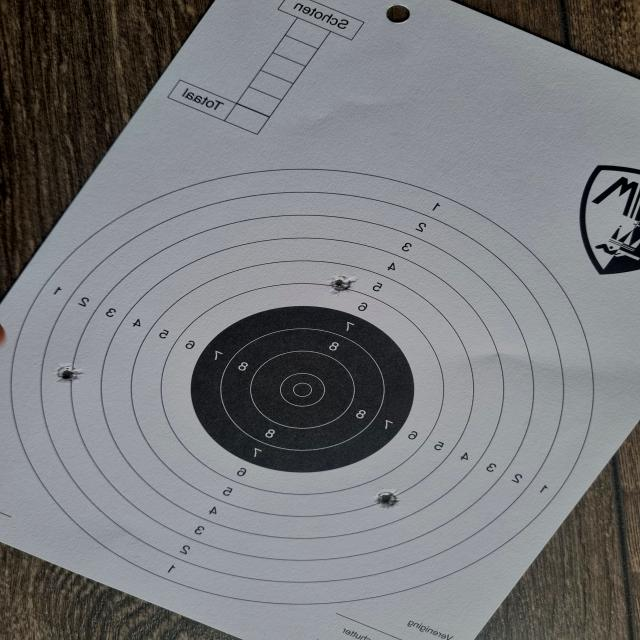3: (53, 361, 83, 384)
5: (371, 490, 401, 509)
6: (329, 274, 354, 292)
Target: (11, 167, 596, 607)
black_contour: (190, 306, 416, 473)
